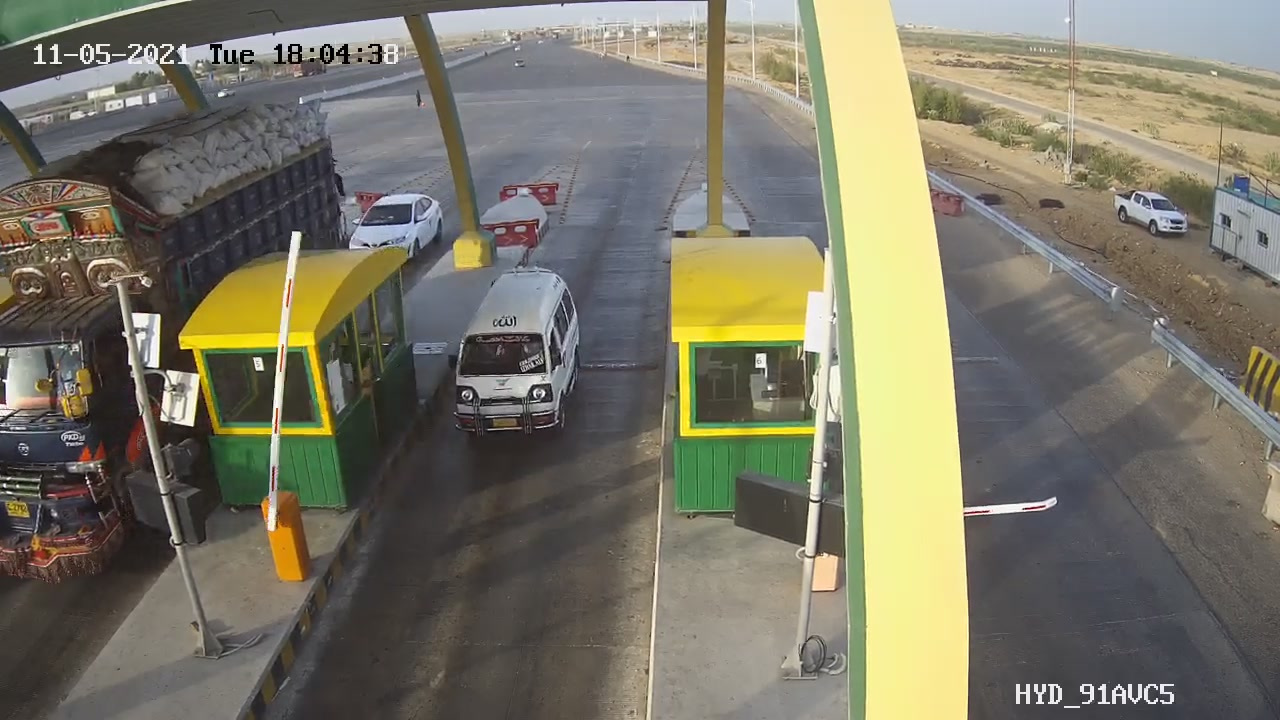F1: (437, 253, 601, 460)
